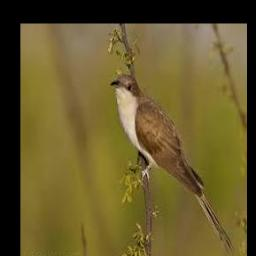Cuckoo: (111, 74, 233, 250)
